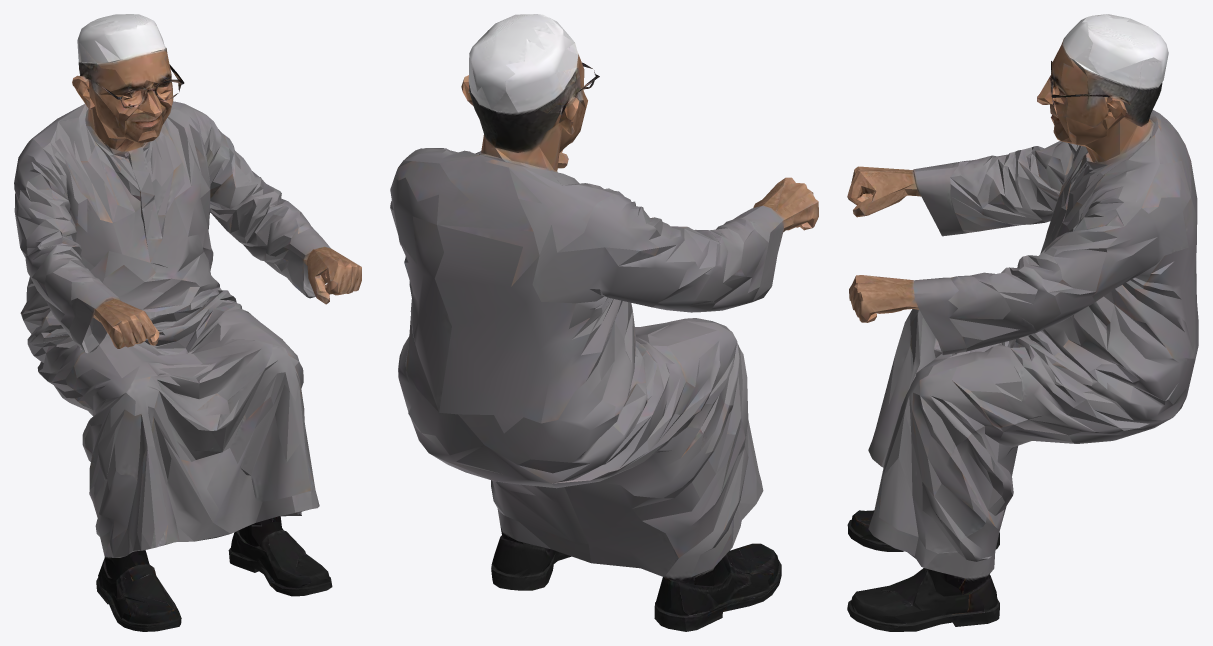
Rendered from d_old.glb.
3 views of the same model, side by side, from view 1: azimuth 30°, elevation 25°; view 2: azimuth 150°, elevation 25°; view 3: azimuth 270°, elevation 25° (orthographic). The views are drawn at different scales.
Parts seen in each view (by area): view 1: output_unwrapped; view 2: output_unwrapped; view 3: output_unwrapped.
Boxes of the visible parts, x1,y1,x2,y2 form: output_unwrapped: [14, 14, 361, 631]; output_unwrapped: [390, 14, 818, 631]; output_unwrapped: [847, 14, 1198, 631].
Bounding box in the file's own units: 0.9886 × 1.9 × 1.08.
Materials: 1 (1 with a texture image).
